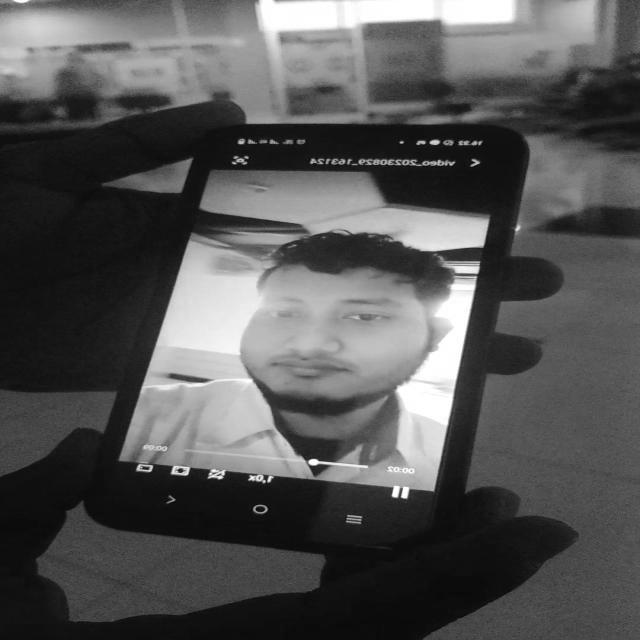fake: (84, 116, 534, 554)
